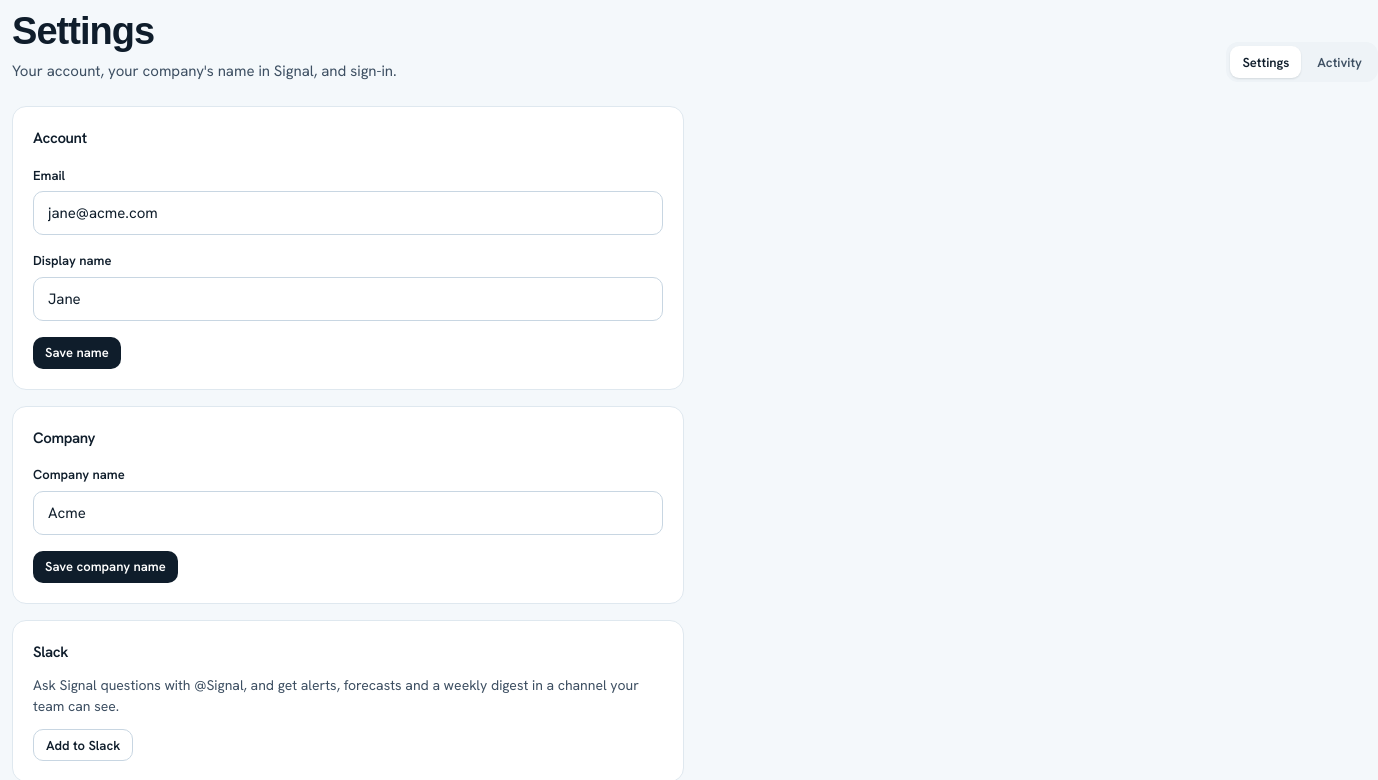
Test: Settings page › Slack › explains when the server has no Slack config
Click the button "Add to Slack" at (83,745), box [33,729,133,761]
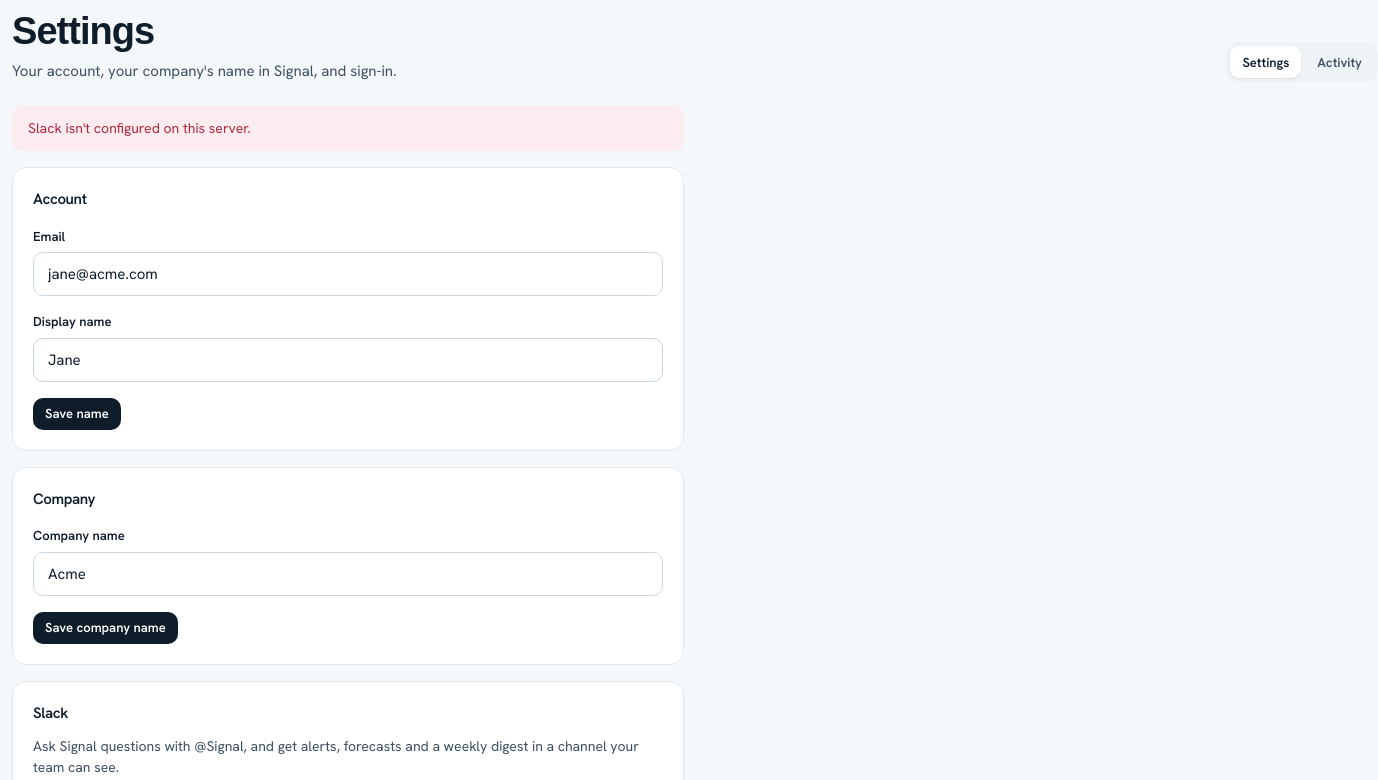
Check: the text "Slack isn't configured on this server." is shown, box [12,106,684,151]
